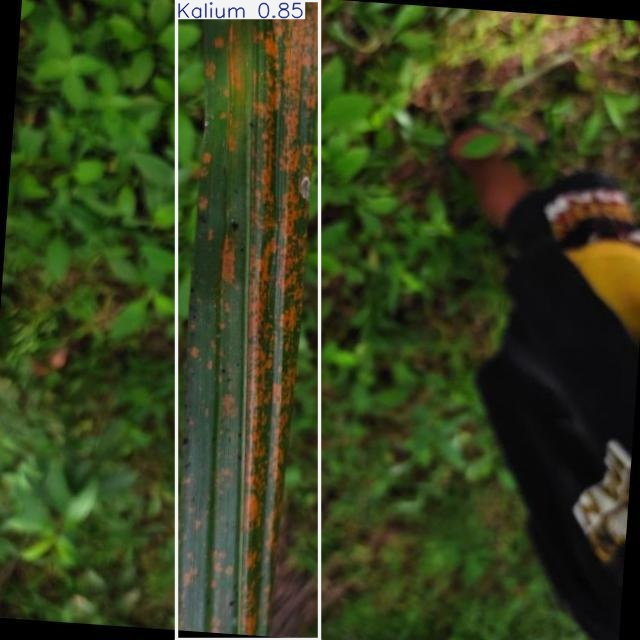Kalium: (176, 0, 320, 640)
